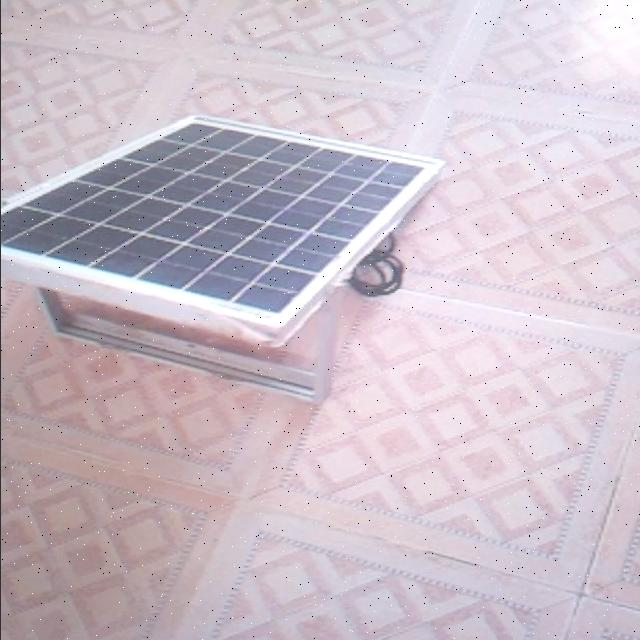Normal Solar Panel: (1, 115, 438, 342)
